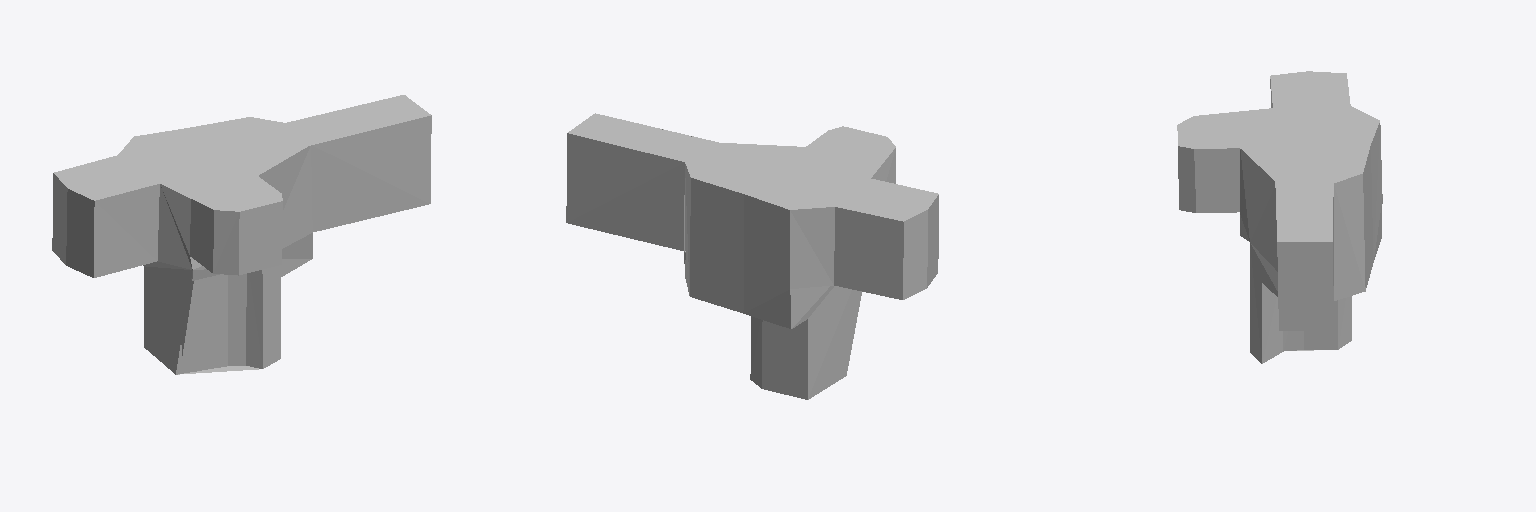
Rendered from Level.obj.
The picture shows the model from 3 angles: view 1: azimuth 30°, elevation 25°; view 2: azimuth 150°, elevation 25°; view 3: azimuth 270°, elevation 25°; orthographic projection.
Visible parts, largest first — view 1: Plane; view 2: Plane; view 3: Plane.
Boxes of the visible parts, x1=… form: Plane: x1=52, y1=95, x2=431, y2=374; Plane: x1=566, y1=113, x2=938, y2=399; Plane: x1=1177, y1=71, x2=1382, y2=363.
Size of the model in its own units: 194 by 107 by 98.89.